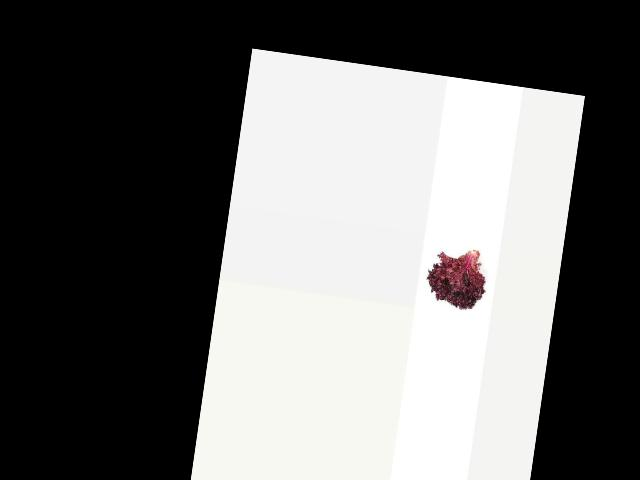lettuce: (421, 237, 489, 315)
